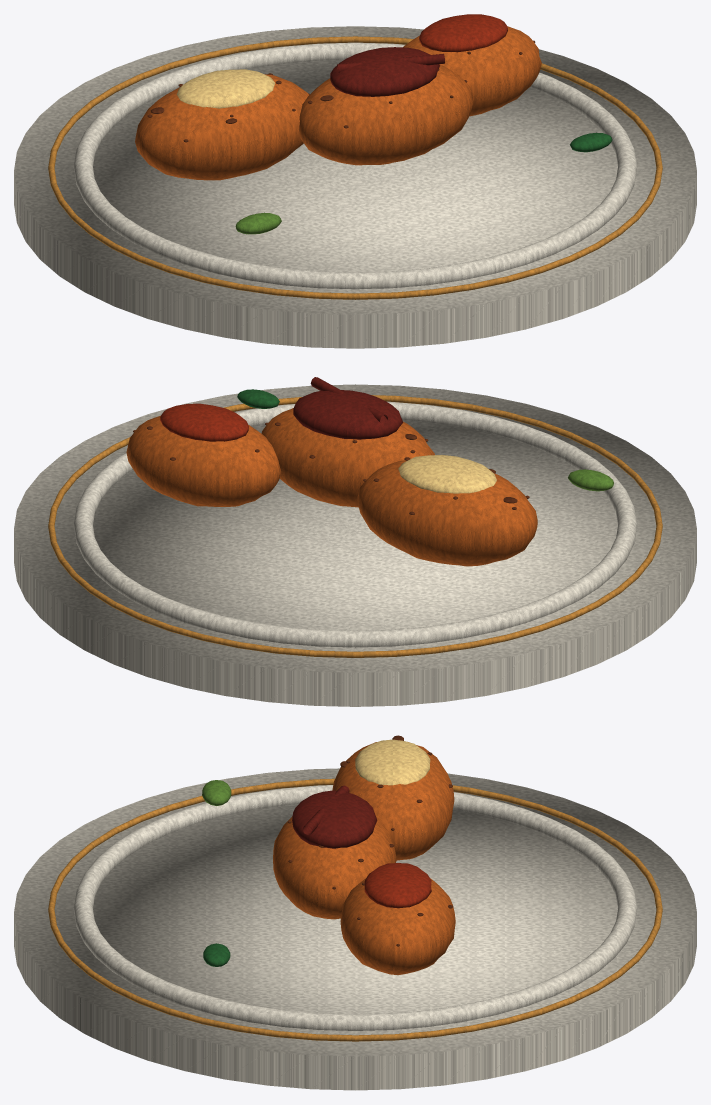
File: aborrajados-bbq.glb
3 renders of one model, top to bottom at view 1: azimuth 30°, elevation 25°; view 2: azimuth 150°, elevation 25°; view 3: azimuth 270°, elevation 25°, orthographic.
Parts seen in each view (by area): view 1: porcelain, friedCrust, gold, beef, cheeseCoast, guavaBbq, leafLight, leaf; view 2: porcelain, friedCrust, gold, beef, cheeseCoast, guavaBbq, leafLight, leaf; view 3: porcelain, friedCrust, gold, beef, cheeseCoast, guavaBbq, leafLight.
Part boxes in pixels (<box>): porcelain: <box>14,26,696,348</box>; friedCrust: <box>135,26,541,180</box>; gold: <box>48,36,662,299</box>; beef: <box>330,47,444,96</box>; cheeseCoast: <box>176,69,274,108</box>; guavaBbq: <box>419,14,507,52</box>; leafLight: <box>235,212,281,234</box>; leaf: <box>570,132,612,152</box>; porcelain: <box>14,384,696,706</box>; friedCrust: <box>126,408,537,566</box>; gold: <box>48,395,662,657</box>; beef: <box>293,377,403,439</box>; cheeseCoast: <box>398,455,496,493</box>; guavaBbq: <box>160,403,248,441</box>; leafLight: <box>568,469,613,491</box>; leaf: <box>237,389,279,408</box>; porcelain: <box>14,768,696,1090</box>; friedCrust: <box>273,740,455,975</box>; gold: <box>48,778,662,1041</box>; beef: <box>292,785,377,848</box>; cheeseCoast: <box>355,739,430,785</box>; guavaBbq: <box>364,863,431,908</box>; leafLight: <box>202,780,231,805</box>.
Size of the model in its own units: 0.64 by 0.1575 by 0.64.
Materials: 9 (9 with a texture image).
